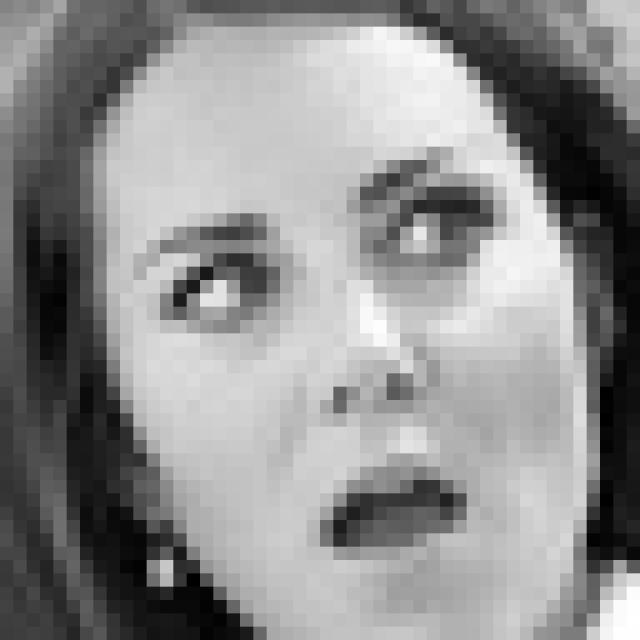surprise: (123, 135, 516, 567)
